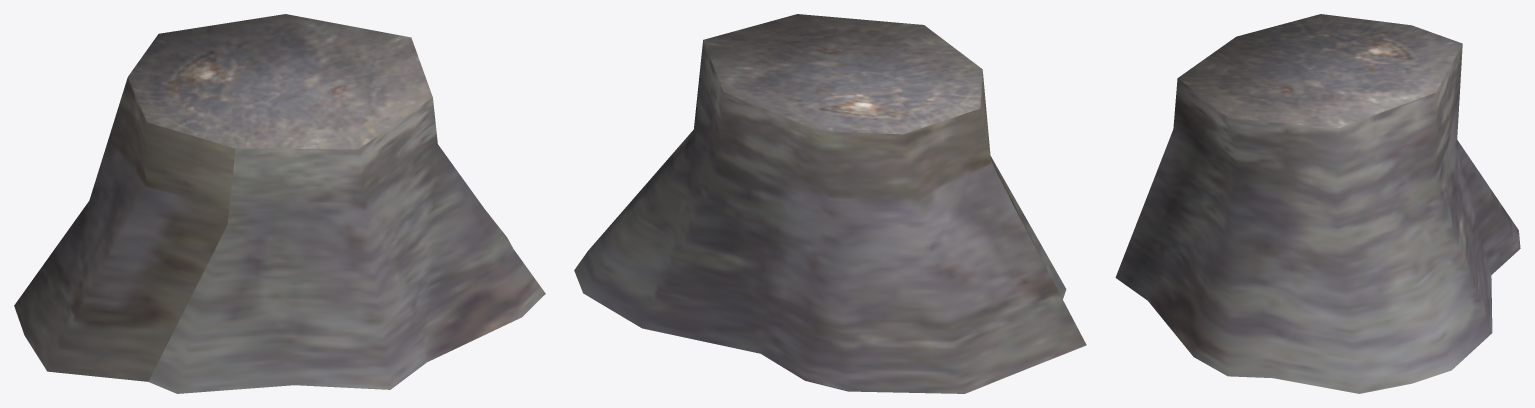
3 views of the same model, side by side, from view 1: azimuth 30°, elevation 25°; view 2: azimuth 150°, elevation 25°; view 3: azimuth 270°, elevation 25° (orthographic). The views are drawn at different scales.
Visible parts, largest first — view 1: nature_tree_trunk; view 2: nature_tree_trunk; view 3: nature_tree_trunk.
Boxes of the visible parts, x1,y1,x2,y2 form: nature_tree_trunk: (14, 14, 545, 393); nature_tree_trunk: (574, 14, 1086, 393); nature_tree_trunk: (1115, 14, 1520, 393).
Bounding box in the file's own units: 1.11 × 0.5188 × 0.8643.
